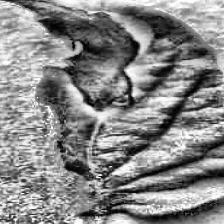disease: (0, 0, 224, 215)
